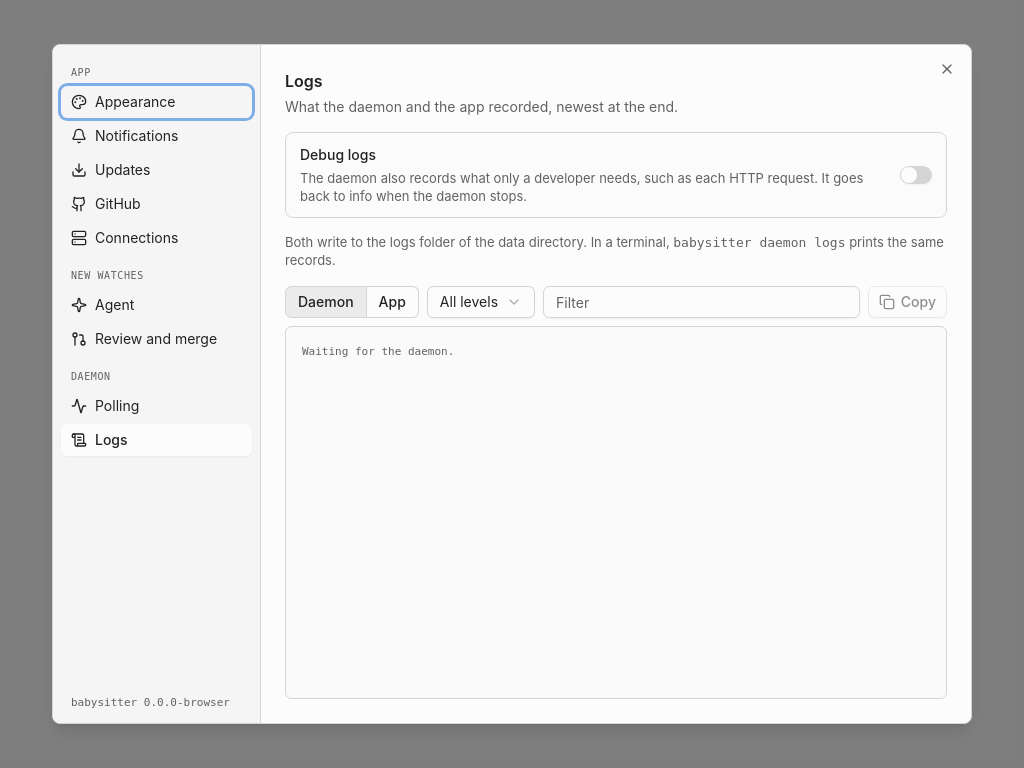
Test case: a level the daemon refuses shows what the daemon answered
Click the switch named "Debug logs" at {"x": 916, "y": 175}, box [900, 166, 932, 184]
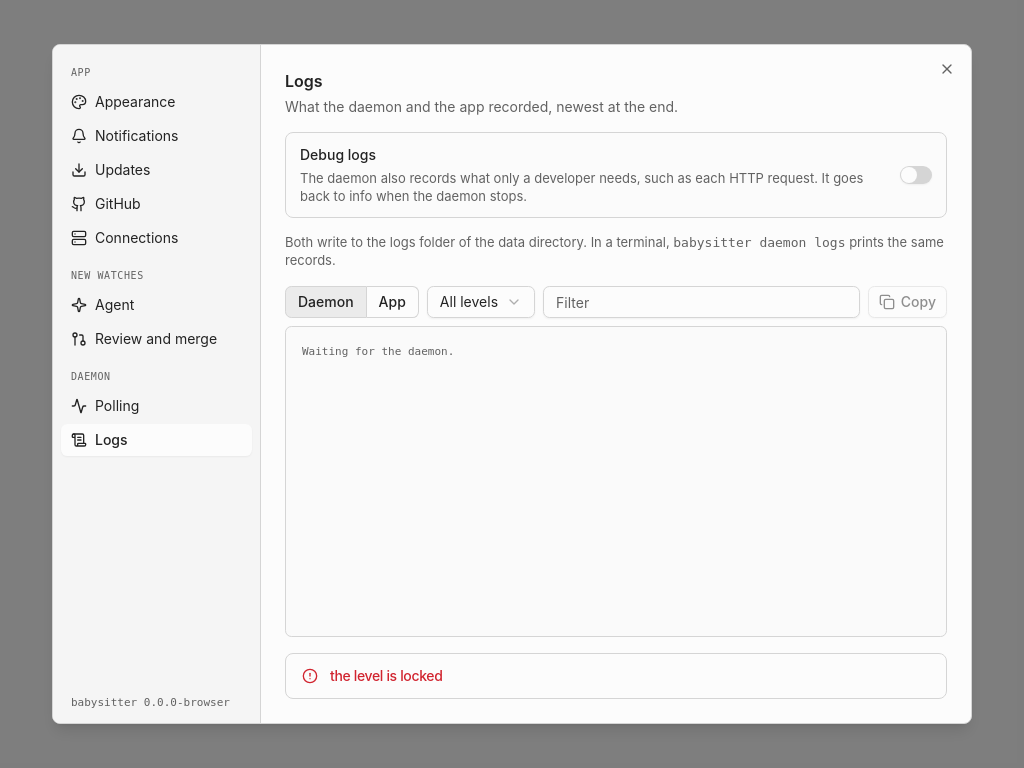
Now the text "the level is locked" is shown, box [330, 667, 442, 684]
